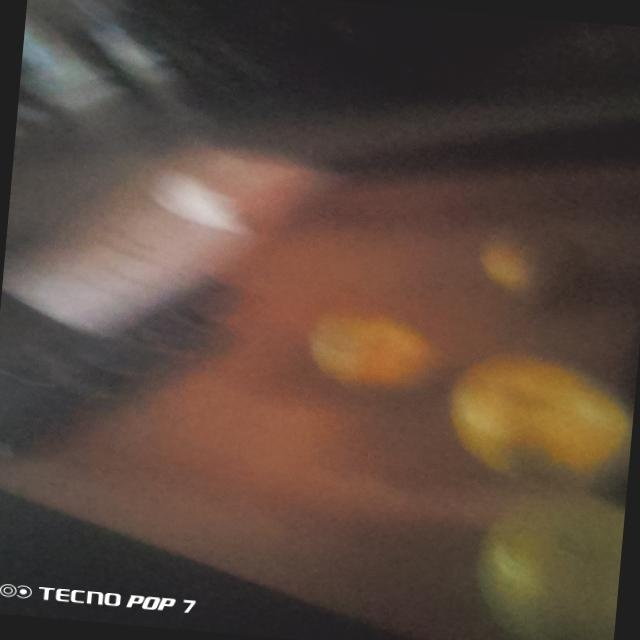agrume: (439, 345, 635, 494), (458, 488, 625, 640), (308, 309, 427, 403)
